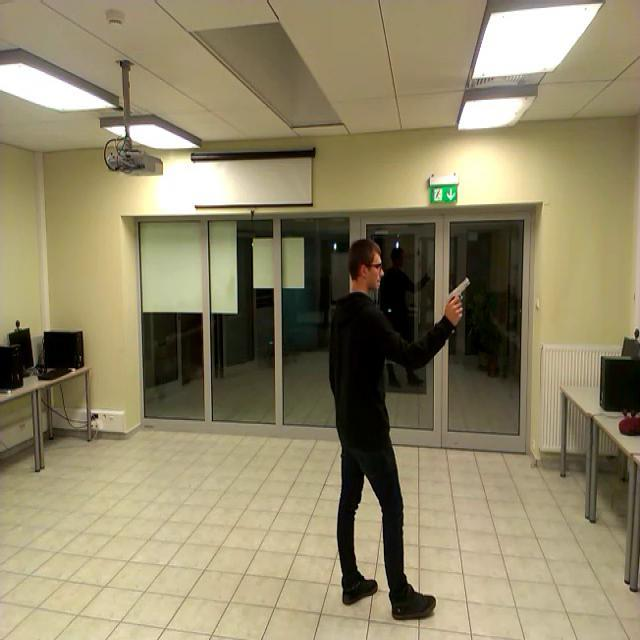Gun: (446, 276, 469, 318)
